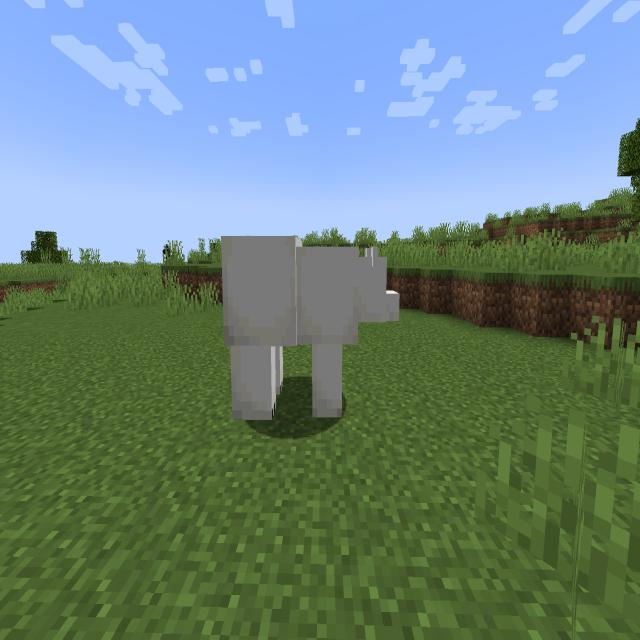Polar Bear: (214, 219, 407, 451)
